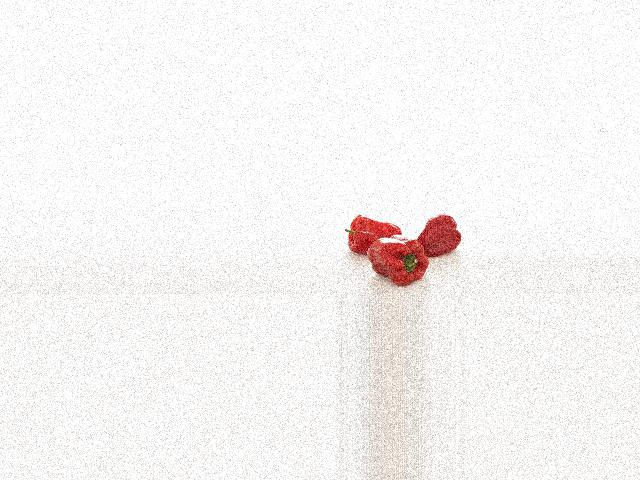bell_pepper: (419, 213, 463, 259)
